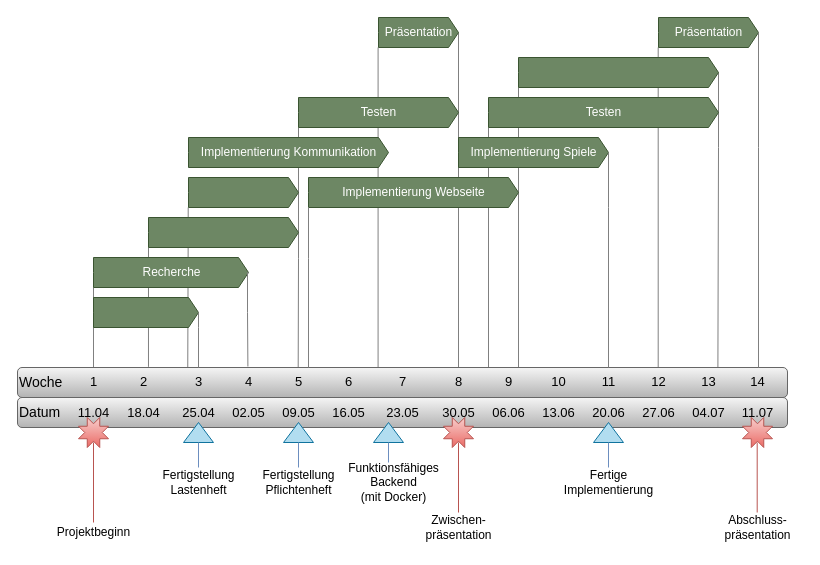
Some shapes in this 820 by 565 pixel diagram are drawn without their labels. Here are the shapes that lost their labels. From the top down, the centre of each, then its label:
At [618,72]: "Dokumentation".
At [243,192]: "Webseitendesign".
At [223,232]: "Entwurf".
At [145,312]: "Organisation".
